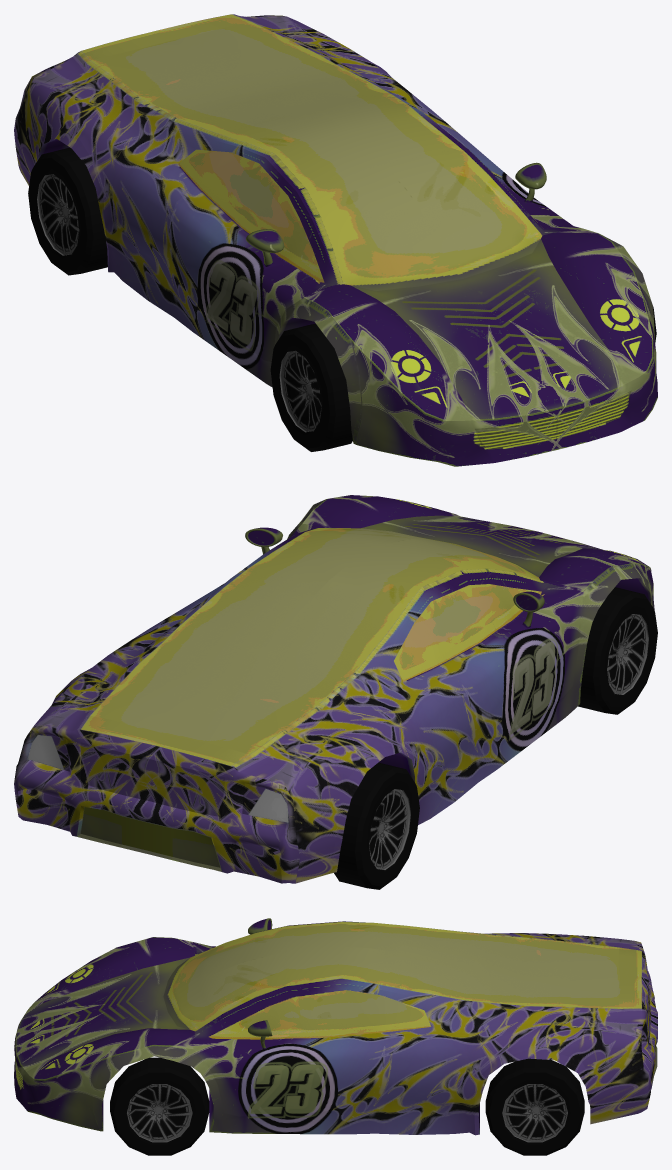
File: Nardo.fbx
The picture shows the model from 3 angles, top to bottom: view 1: azimuth 30°, elevation 25°; view 2: azimuth 150°, elevation 25°; view 3: azimuth 270°, elevation 25°; orthographic projection. The views are drawn at different scales.
Parts seen in each view (by area): view 1: Nardo, Nardo_Teker; view 2: Nardo, Nardo_Teker; view 3: Nardo, Nardo_Teker.
Boxes of the visible parts, x1=… form: Nardo: x1=14, y1=14, x2=657, y2=466; Nardo_Teker: x1=28, y1=147, x2=656, y2=451; Nardo: x1=14, y1=495, x2=654, y2=883; Nardo_Teker: x1=334, y1=587, x2=657, y2=889; Nardo: x1=14, y1=918, x2=657, y2=1135; Nardo_Teker: x1=110, y1=1057, x2=584, y2=1155.
Bounding box in the file's own units: 203 × 112 × 439.
Materials: 2 (2 with a texture image).
